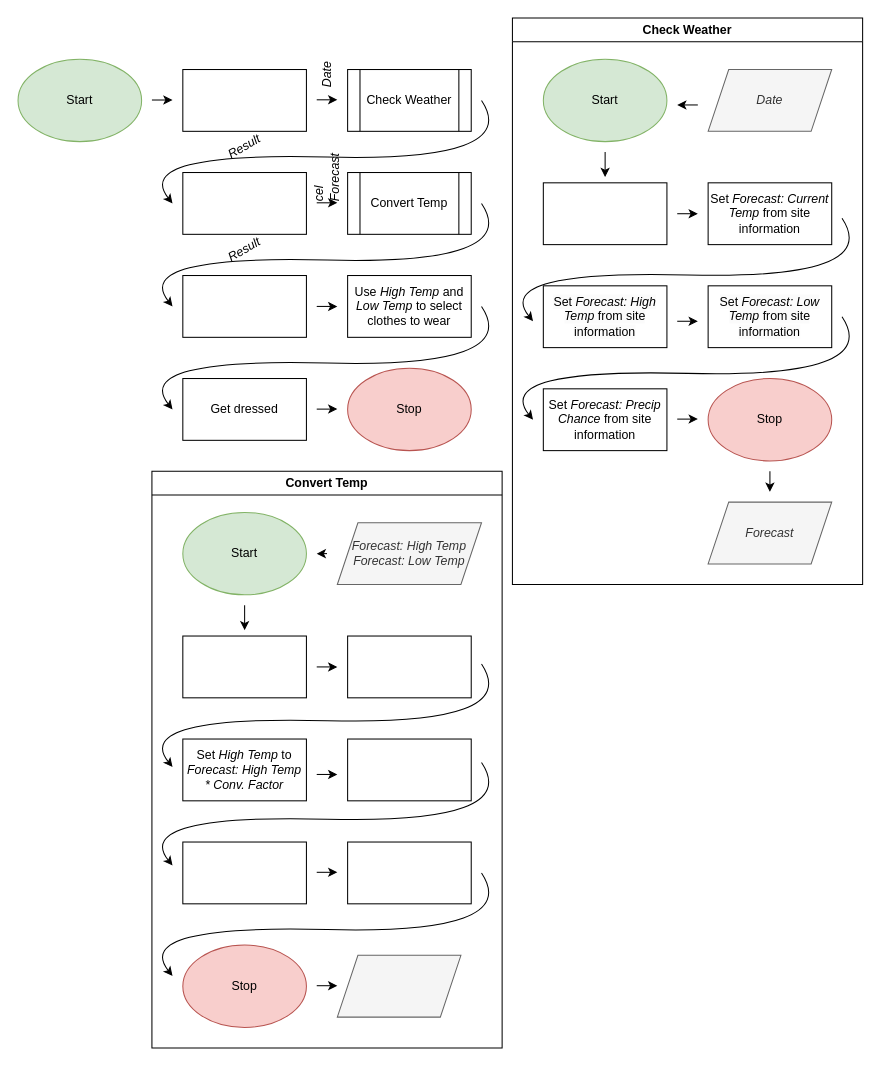
This 881x1066 diagram has some shape labels left out. The shapes that lost their labels are listed below. From the top down, each one's centre as x and y in pixels, then its label:
At [244,99]: "Set Date".
At [244,202]: "Set celForecast to Result".
At [604,213]: "Check internet weather for Date".
At [244,305]: "Set farForecast to Result".
At [244,666]: "Conv. Factor is 9/5".
At [409,666]: "Freezing Offset is 32".
At [409,769]: "Add Freezing Offset to High Temp".
At [244,872]: "Set Low Temp to Forecast: Low Temp * Conv. Factor".
At [409,872]: "Add Freezing Offset to Low Temp".
At [398,985]: "High Temp Low Temp".
